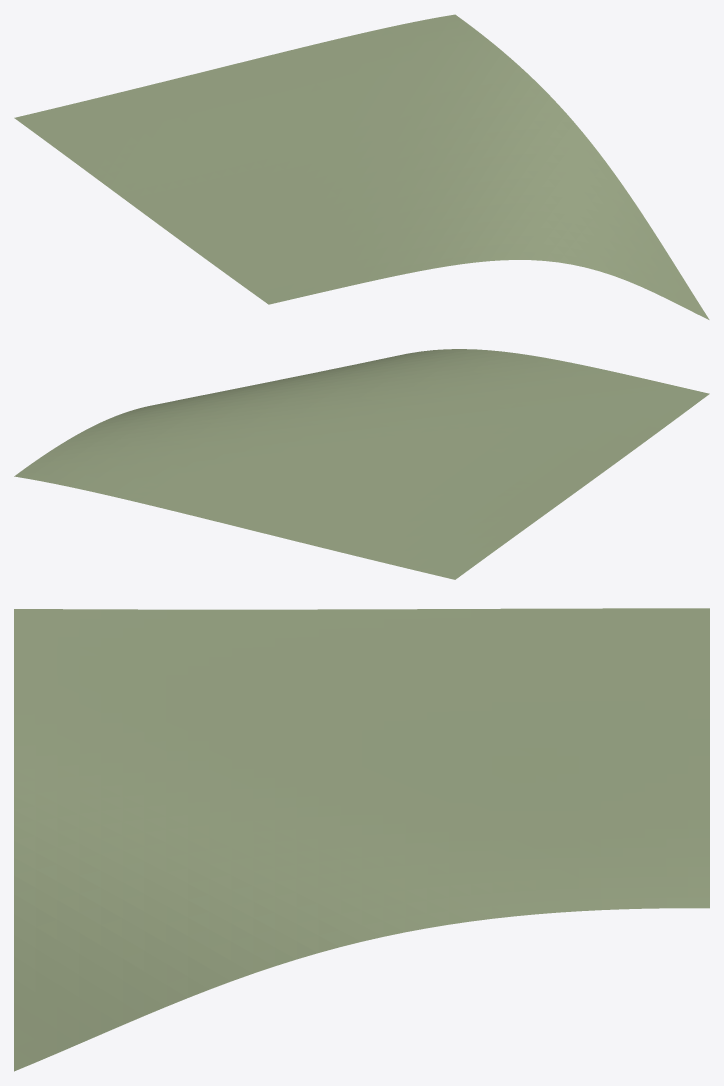
Rendered from expanse-11-15.glb.
3 views of the same model, one above another, from view 1: azimuth 30°, elevation 25°; view 2: azimuth 150°, elevation 25°; view 3: azimuth 270°, elevation 25° (orthographic). The views are drawn at different scales.
Visible parts, largest first — view 1: expanse-11-15; view 2: expanse-11-15; view 3: expanse-11-15.
Boxes of the visible parts, x1,y1,x2,y2 form: expanse-11-15: (14,14,709,319); expanse-11-15: (14,349,709,579); expanse-11-15: (14,608,709,1071).
Bounding box in the file's own units: 256 × 68.7 × 256.
